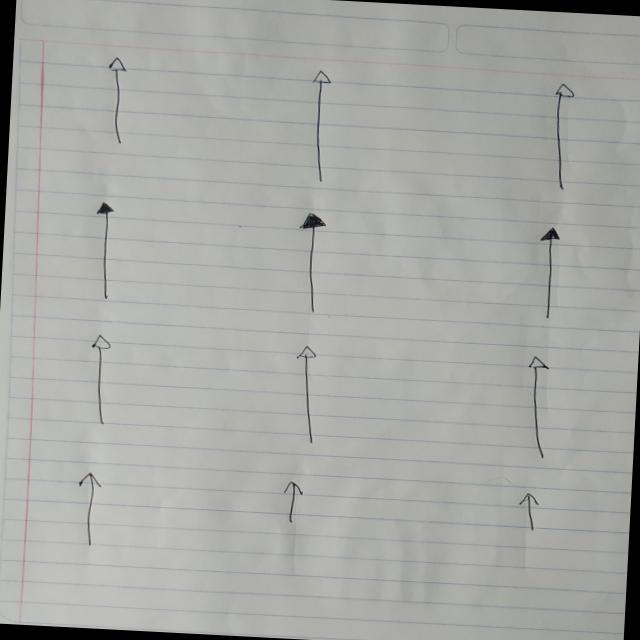arrow_line_up: (543, 81, 584, 195), (304, 67, 343, 182), (288, 344, 328, 446), (293, 210, 329, 318), (520, 354, 554, 464), (84, 332, 118, 429), (100, 56, 132, 148), (534, 225, 564, 322), (90, 200, 118, 303), (73, 468, 106, 548), (514, 488, 544, 532), (280, 478, 308, 522)
